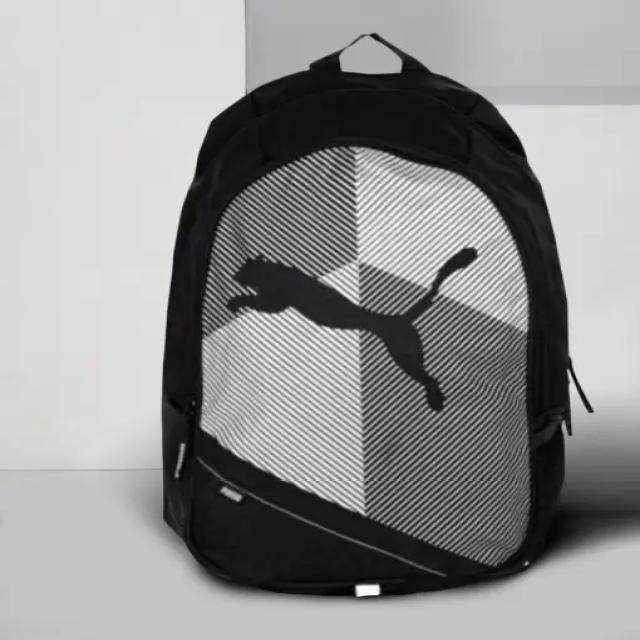backpack: (161, 34, 594, 600)
